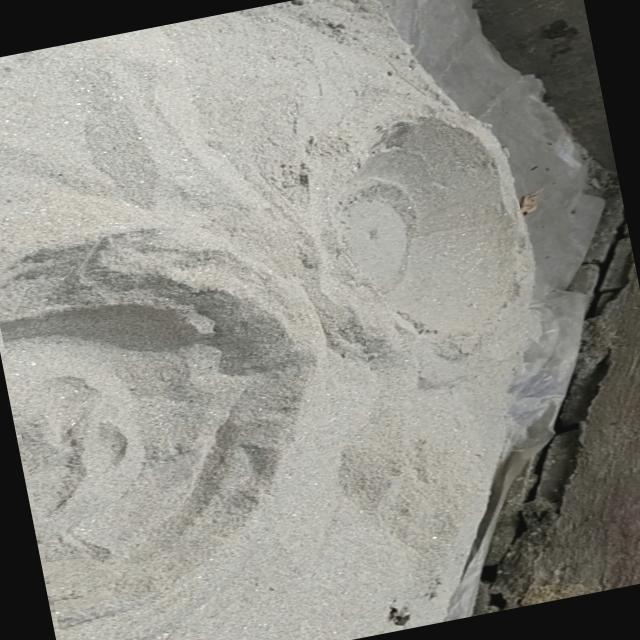C20: (0, 236, 311, 640), (343, 118, 530, 356)
